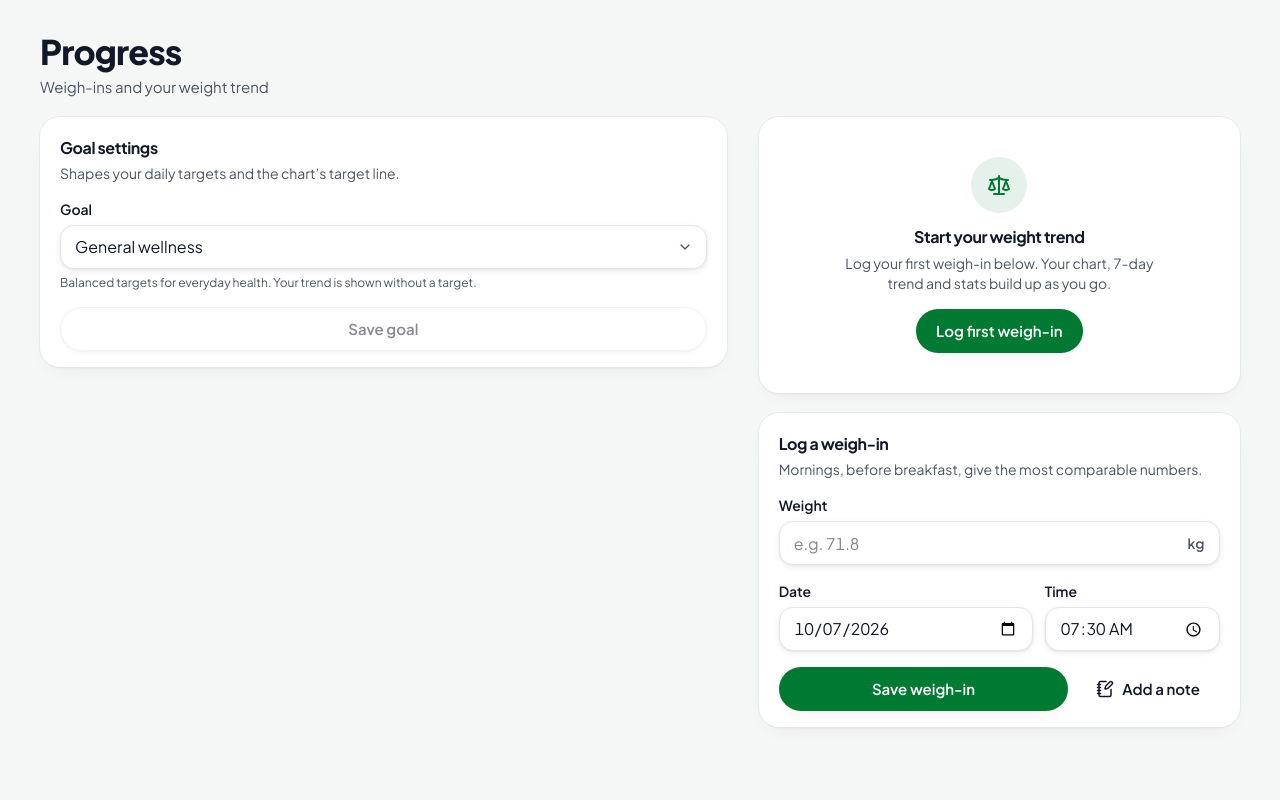
Test case: Progress: logging a weigh-in › saves a weigh-in and updates stats and history
Expected: the heading "Log a weigh-in" is shown, [779,433,888,454]
Expected: the heading "Start your weight trend" is shown, [914,226,1085,247]
Type "71.2" into the field labelled "Weight". click: point(999, 543)
box: [779,521,1220,565]
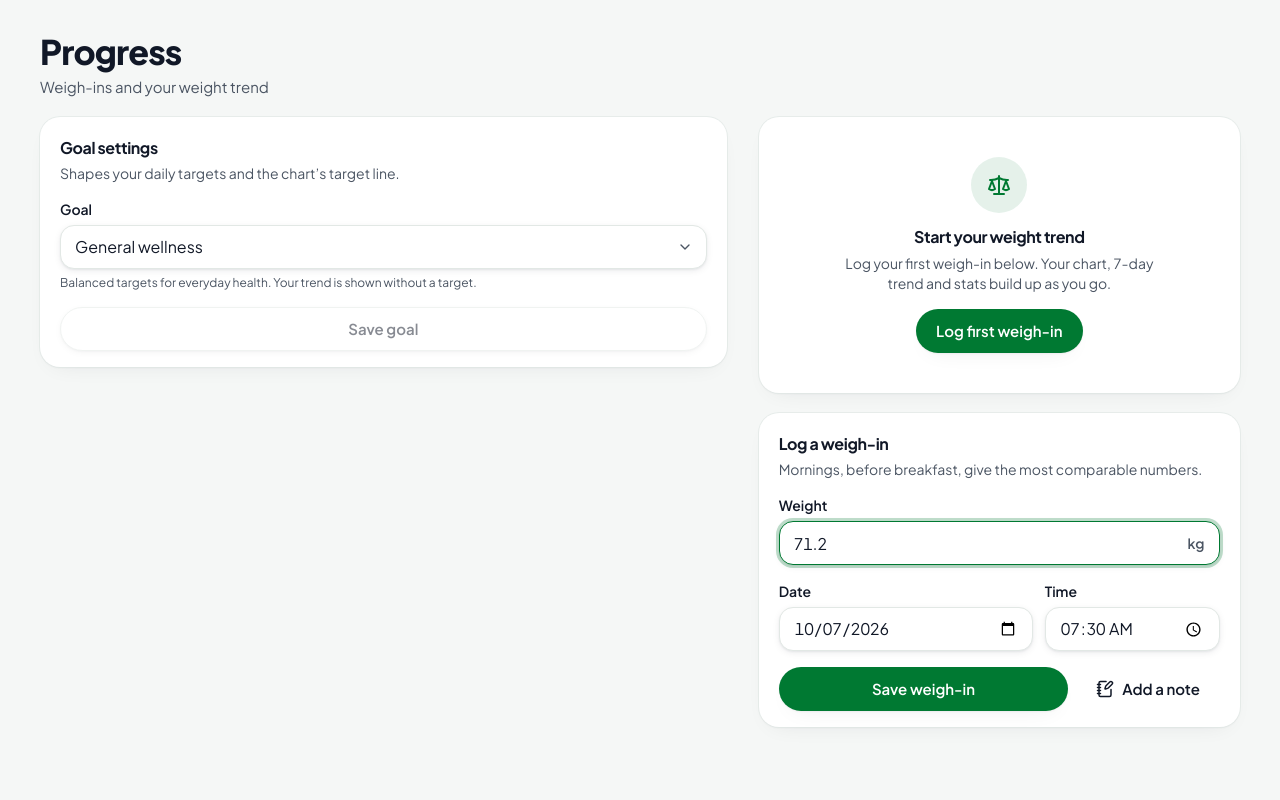
Click the button "Add a note". click: point(1148, 689)
box: [1076,667,1220,711]
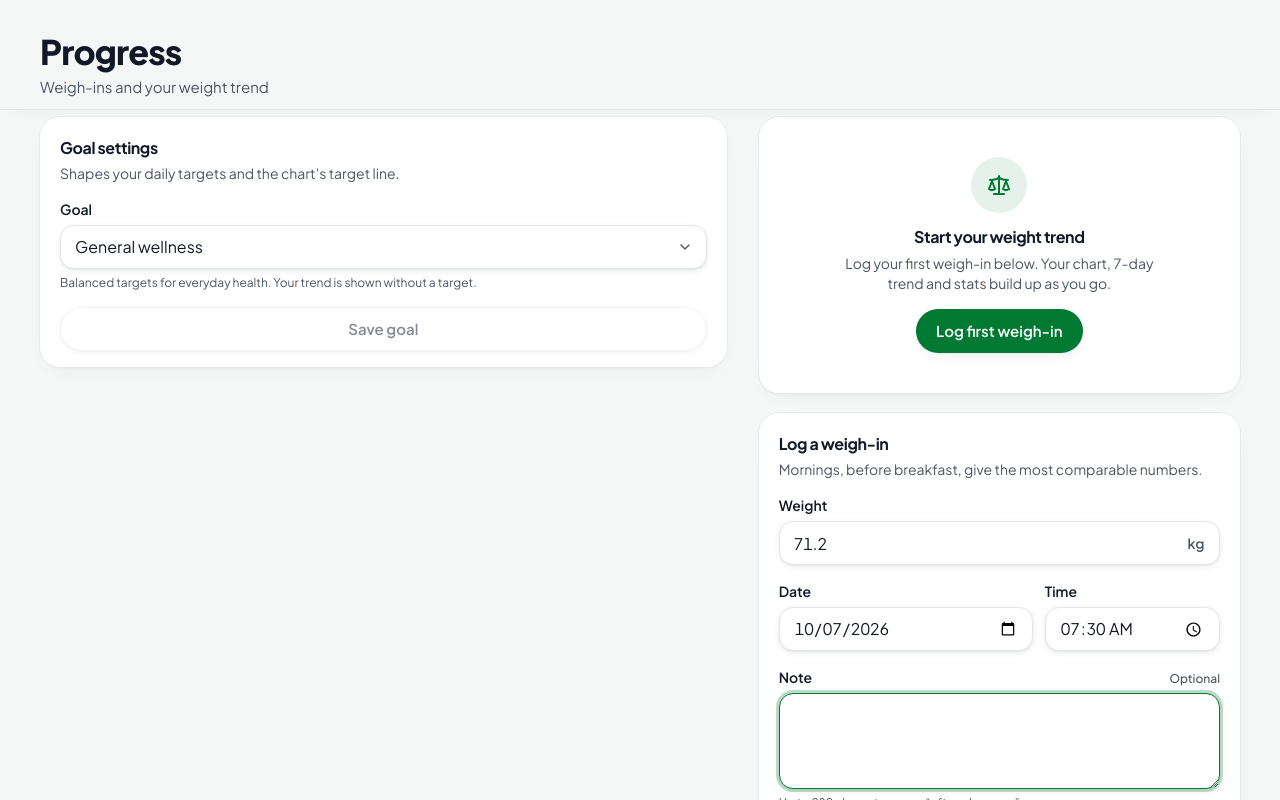
Type "Before breakfast" into the text box labelled "Note Optional". click: point(999, 741)
box: [779,693,1220,789]
(page scrolled)
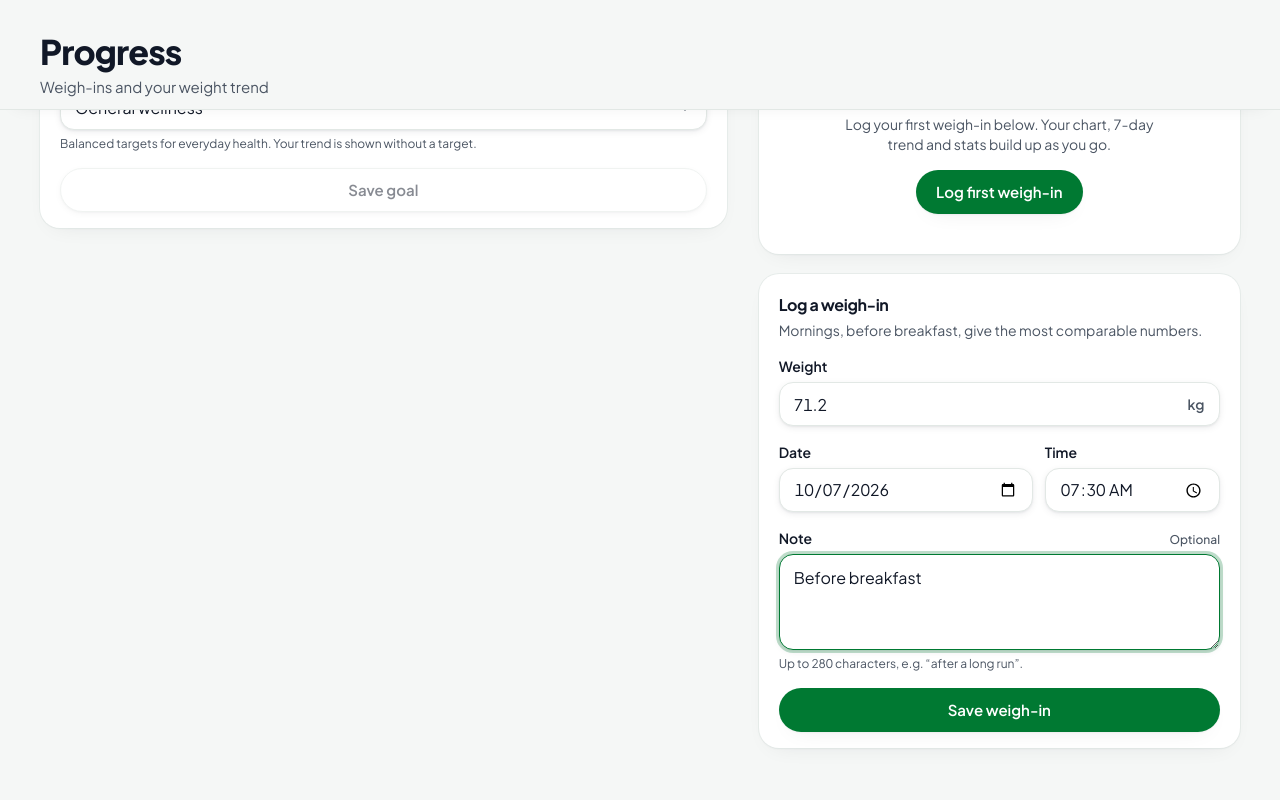
Click the button "Save weigh-in". click: point(999, 710)
box: [779,688,1220,732]
(page scrolled)
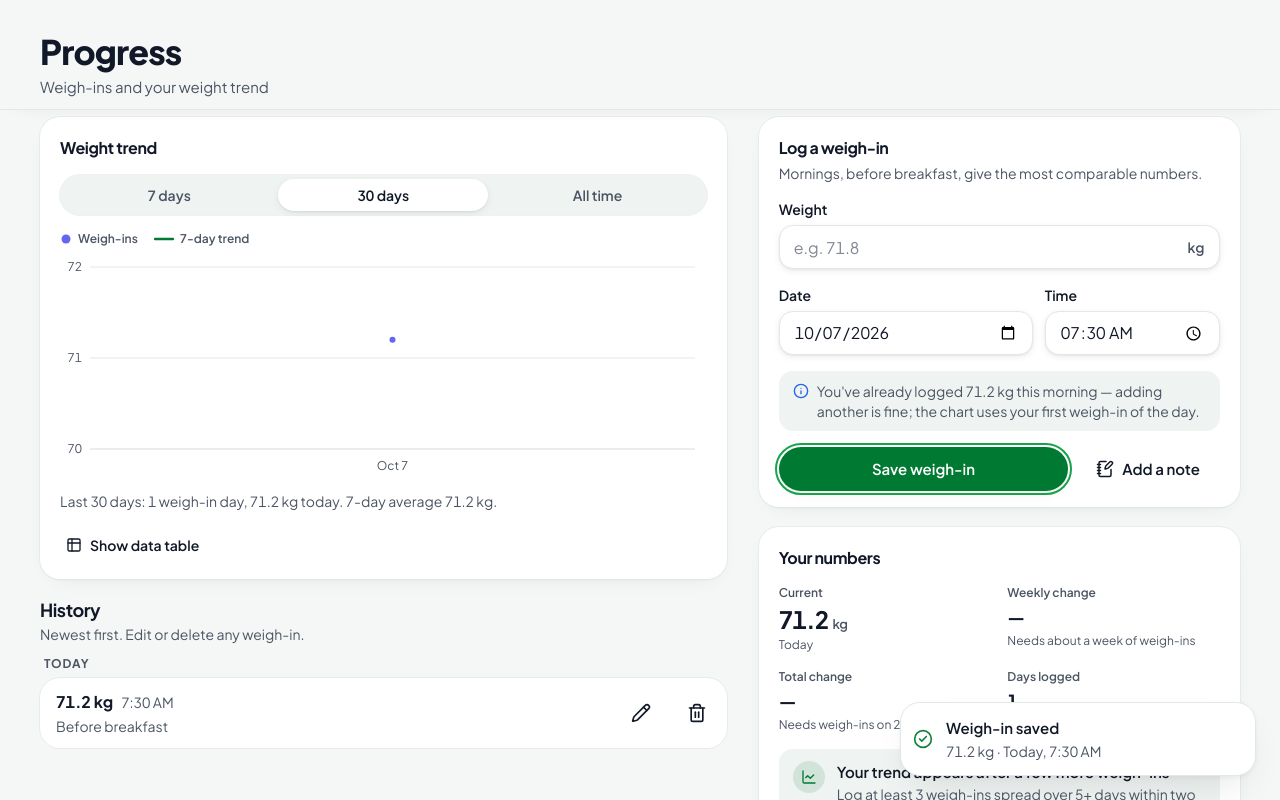
Now the text "Weigh-in saved" is shown, box [946,718,1059,736]
Now the text "71.2 kg · Today, 7:30 AM" is shown, box [946,741,1101,761]
Now the text "71.2 kg" is shown, box [56,690,113,714]
